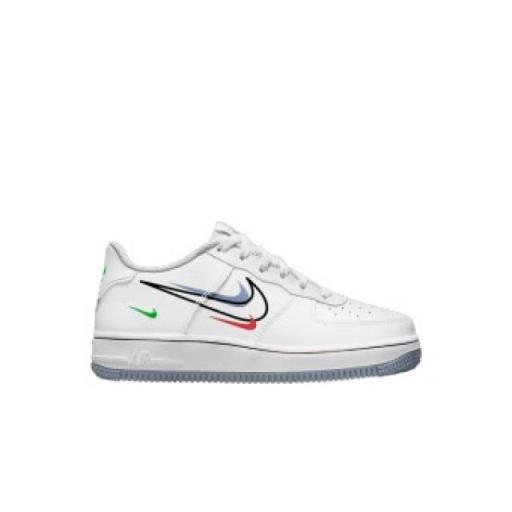Nike: (134, 272, 270, 324)
